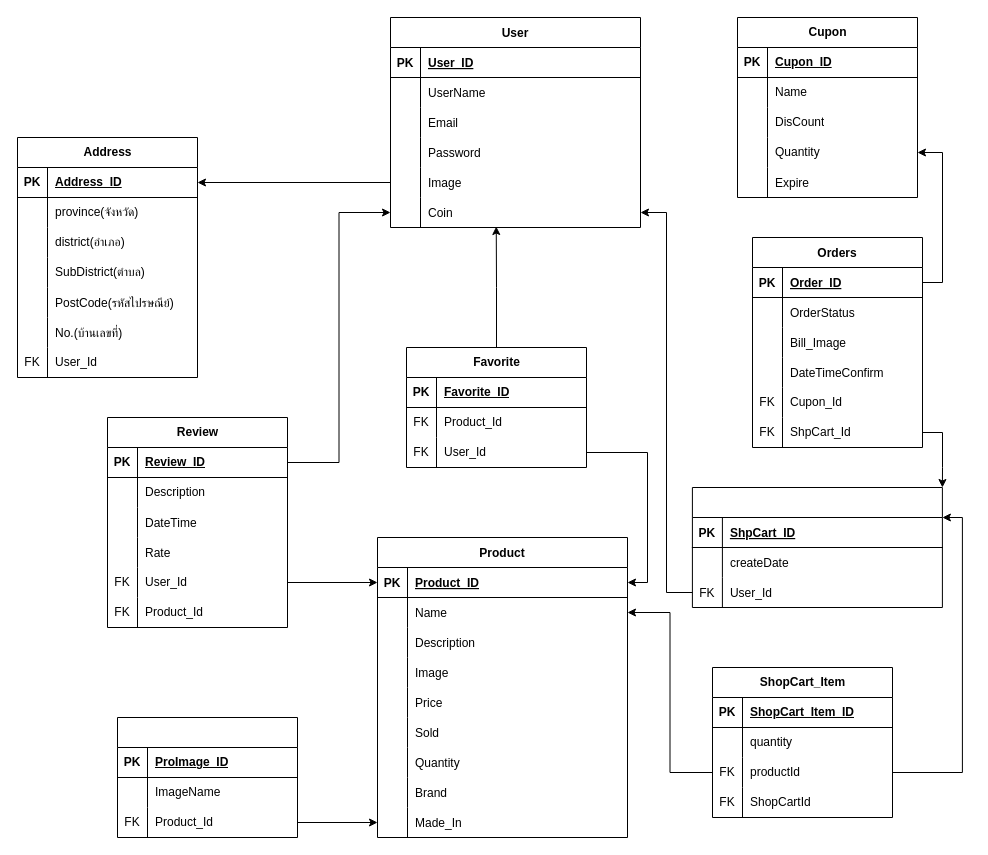
This 988x855 diagram has some shape labels left out. Here are the shapes that lost their labels. From the top down, the box of each, then its label:
(691, 486, 942, 608): ShoppingCart
(116, 716, 298, 838): Product_Image
